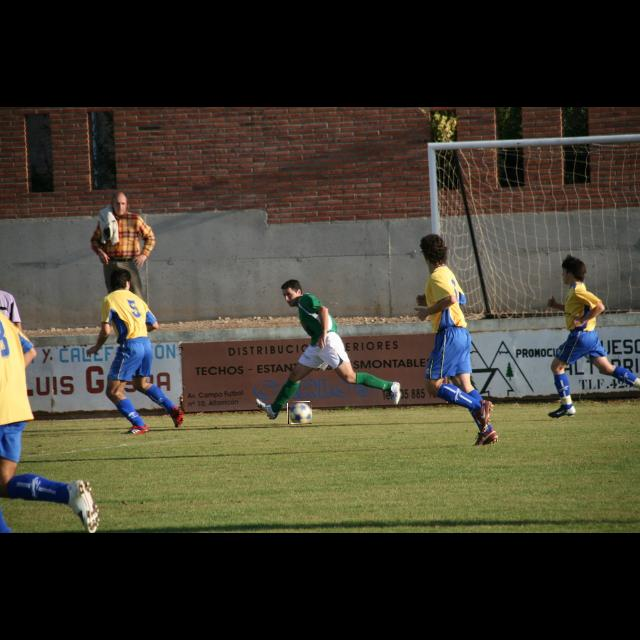Football: (288, 402, 312, 424)
